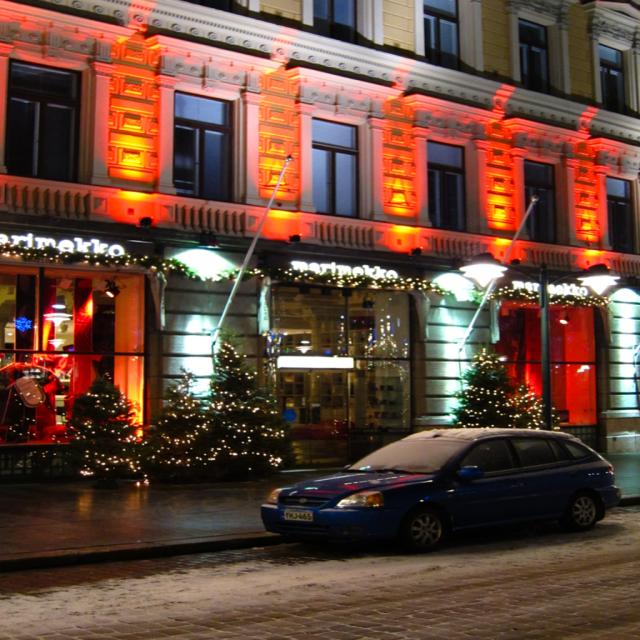car: (257, 422, 621, 554)
